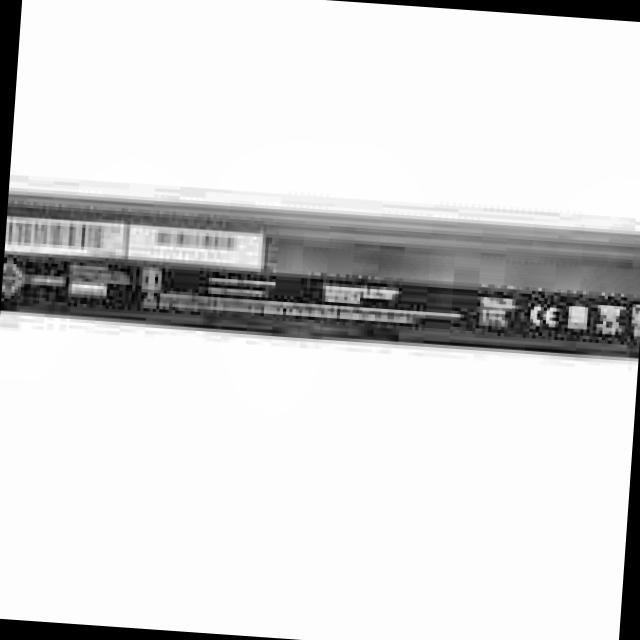Battery: (0, 190, 640, 361)
